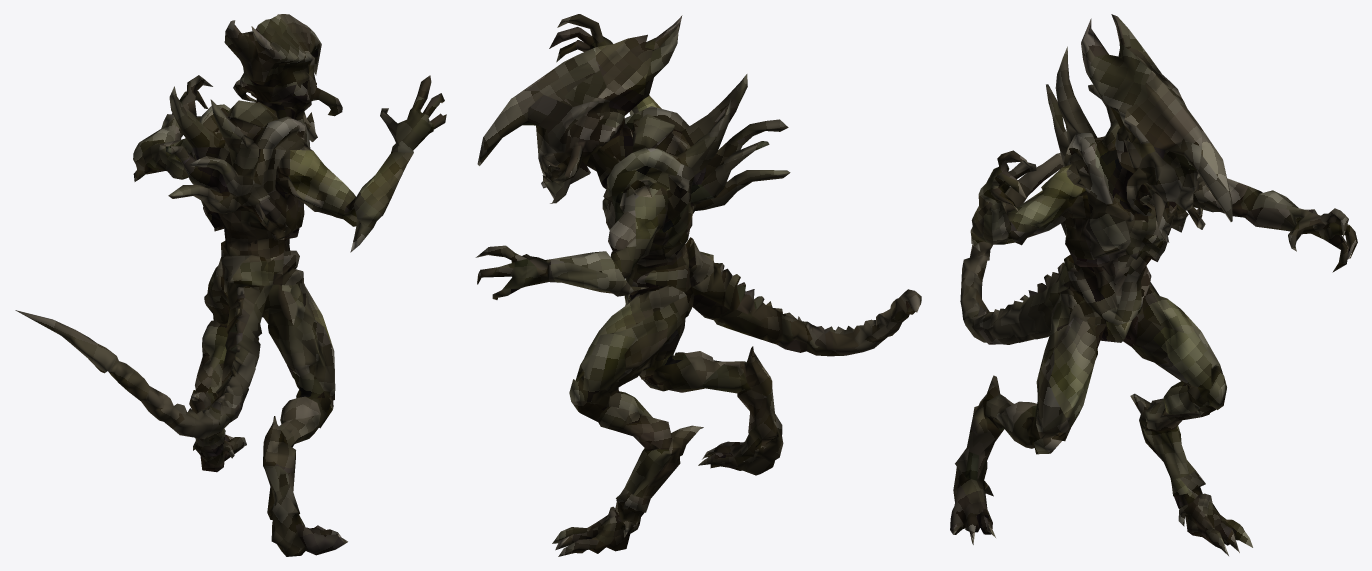
Rendered from obstacle03_lod.glb.
The picture shows the model from 3 angles, left to right: view 1: azimuth 30°, elevation 25°; view 2: azimuth 150°, elevation 25°; view 3: azimuth 270°, elevation 25°; orthographic projection. The views are drawn at different scales.
Visible parts, largest first — view 1: tripo_node_9e9ac652-e7df-4db6-ad4c-05c8deccbd13; view 2: tripo_node_9e9ac652-e7df-4db6-ad4c-05c8deccbd13; view 3: tripo_node_9e9ac652-e7df-4db6-ad4c-05c8deccbd13.
Part boxes in pixels (box(x1,y1,x2,y2)): tripo_node_9e9ac652-e7df-4db6-ad4c-05c8deccbd13: box(15, 14, 446, 556); tripo_node_9e9ac652-e7df-4db6-ad4c-05c8deccbd13: box(475, 14, 921, 556); tripo_node_9e9ac652-e7df-4db6-ad4c-05c8deccbd13: box(950, 14, 1357, 555).
Size of the model in its own units: 0.8289 by 0.9773 by 0.7069.
Materials: 1 (1 with a texture image).
